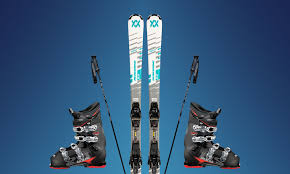skis: (125, 12, 167, 174)
